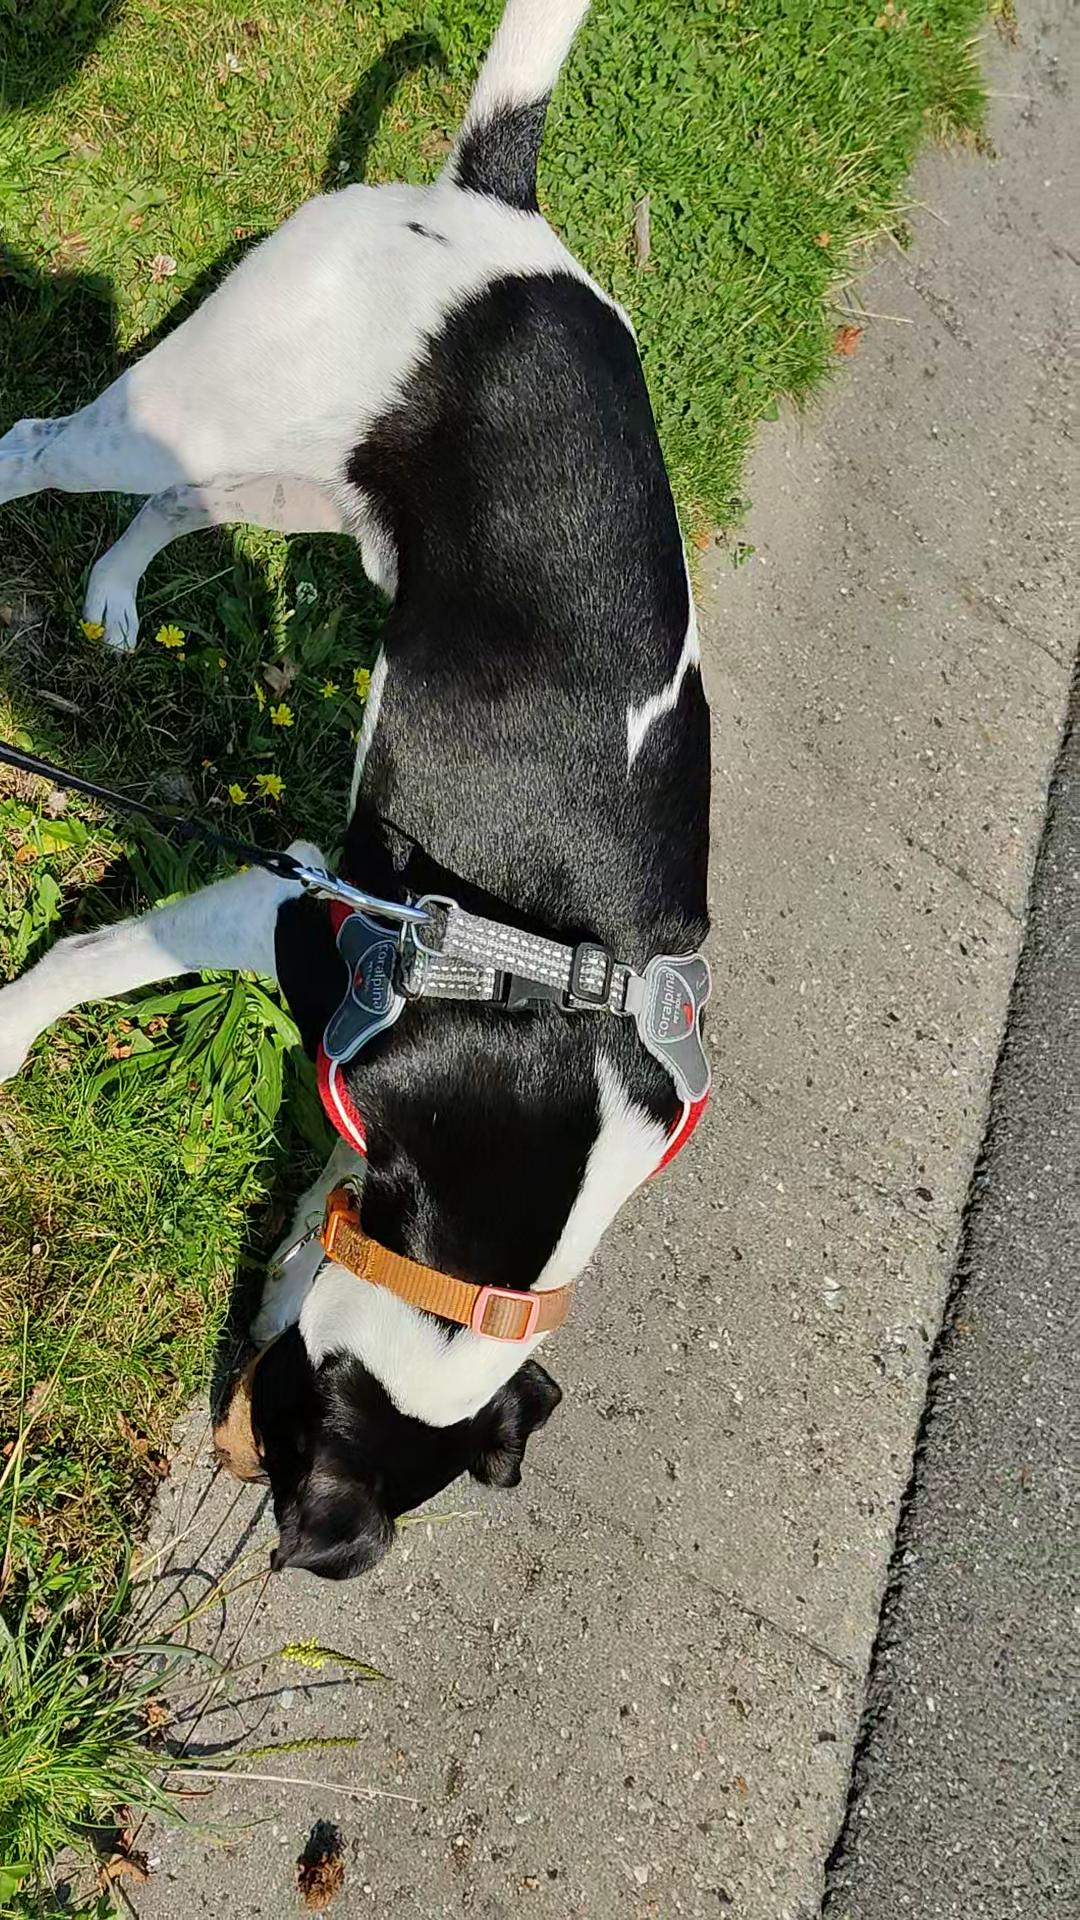Dog: (0, 0, 735, 1592)
